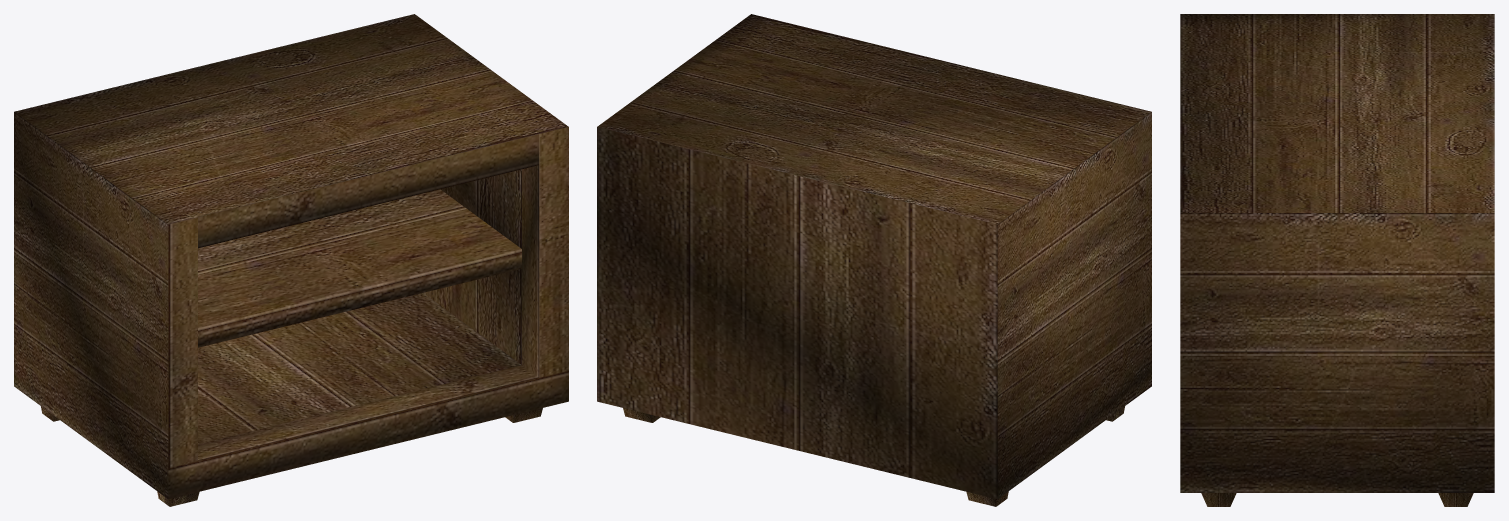
Rendered from GS_FURNITURE_NORMAL_07_DRP.glb.
The picture shows the model from 3 angles, left to right: view 1: azimuth 30°, elevation 25°; view 2: azimuth 150°, elevation 25°; view 3: azimuth 270°, elevation 25°; orthographic projection.
Parts seen in each view (by area): view 1: Mesh; view 2: Mesh; view 3: Mesh.
Boxes of the visible parts, left/top/right/bottom form: Mesh: left=14, top=14, right=568, bottom=506; Mesh: left=597, top=14, right=1151, bottom=506; Mesh: left=1180, top=14, right=1494, bottom=506.
Size of the model in its own units: 1.35 by 0.9524 by 0.9.
Materials: 1 (1 with a texture image).
